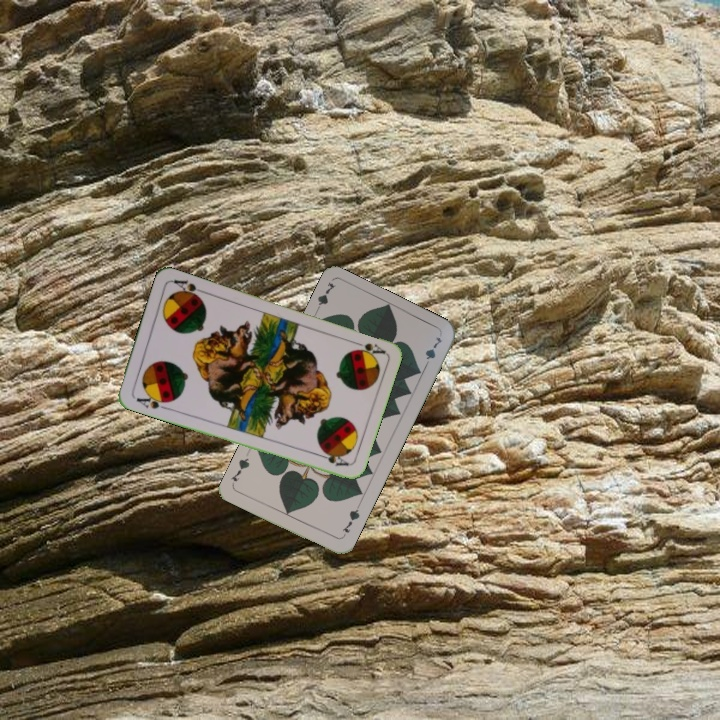G7: (310, 278, 338, 317), (338, 502, 362, 535)
SA: (132, 390, 172, 412), (348, 337, 388, 358)
